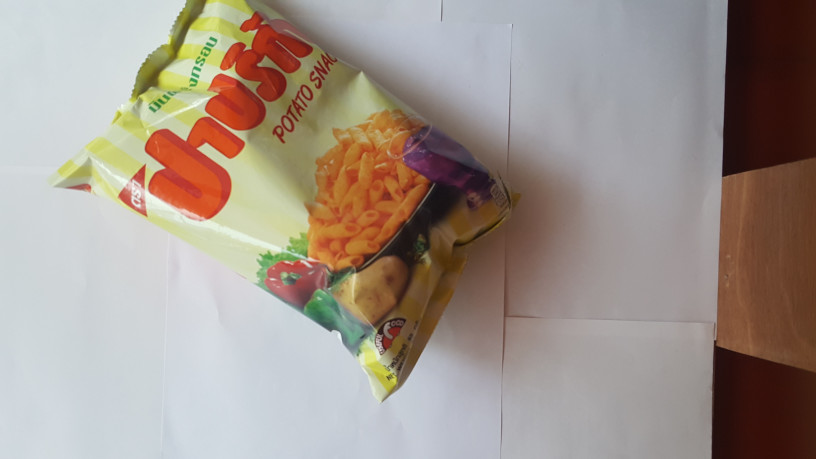paprika: (36, 1, 537, 409)
